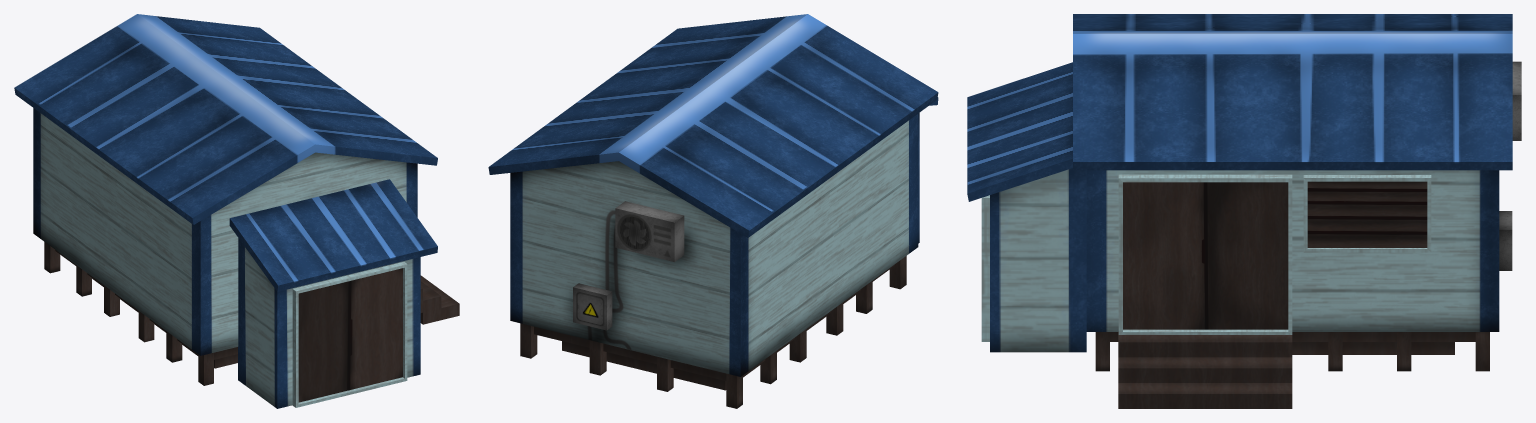
3 views of the same model, side by side, from view 1: azimuth 30°, elevation 25°; view 2: azimuth 150°, elevation 25°; view 3: azimuth 270°, elevation 25° (orthographic). The views are drawn at different scales.
Visible parts, largest first — view 1: Cube, Cube.001, Cube.002, Cube.003; view 2: Cube, Cube.001, Cube.003, Cube.004; view 3: Cube, Cube.001, Cube.002, Cube.003, Cube.004.
Part boxes in pixels (box(x1,y1,x2,y2)): Cube: box(33, 108, 459, 408); Cube.001: box(14, 14, 437, 224); Cube.002: box(229, 179, 437, 291); Cube.003: box(44, 242, 237, 385); Cube: box(510, 113, 919, 376); Cube.001: box(488, 14, 938, 237); Cube.003: box(520, 256, 906, 408); Cube.004: box(573, 201, 684, 330); Cube: box(981, 168, 1499, 408); Cube.001: box(1073, 14, 1512, 170); Cube.002: box(967, 62, 1072, 201); Cube.003: box(1095, 332, 1489, 371); Cube.004: box(1499, 61, 1521, 270).
Size of the model in its own units: 5.92 by 4.44 by 8.06.
Materials: 2 (2 with a texture image).
